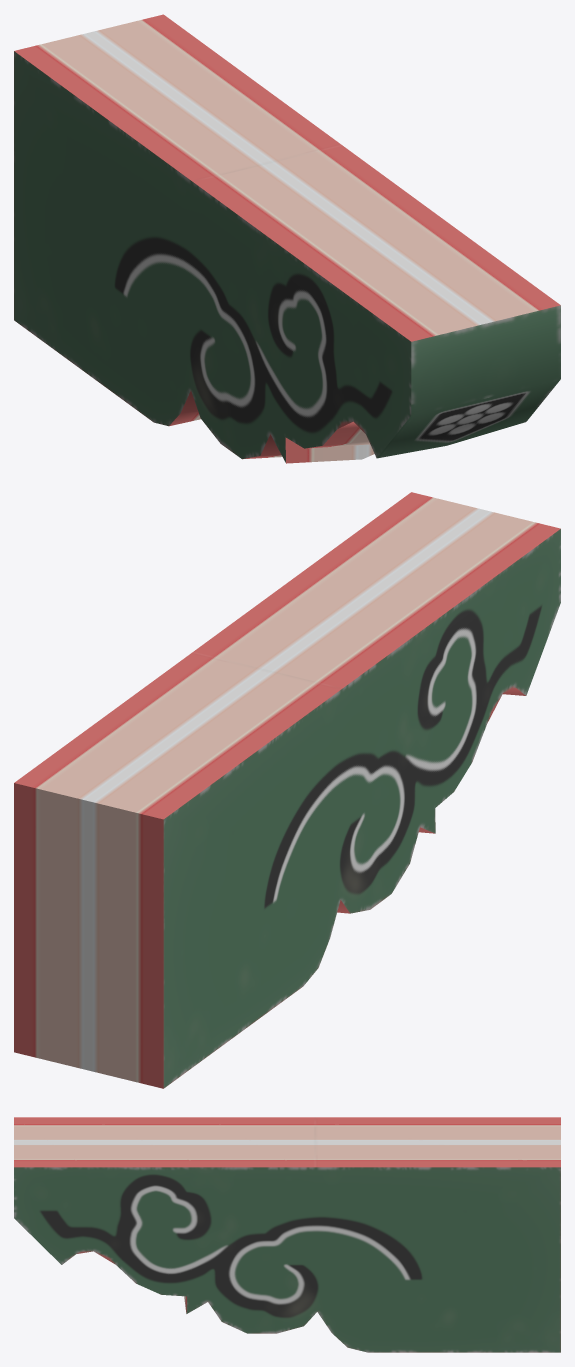
The model's file is SM_CGJ_Gongpo05d.fbx.
3 renders of one model, top to bottom at view 1: azimuth 30°, elevation 25°; view 2: azimuth 150°, elevation 25°; view 3: azimuth 270°, elevation 25°, orthographic. The views are drawn at different scales.
Visible parts, largest first — view 1: SM_CGJ_Gongpo05d; view 2: SM_CGJ_Gongpo05d; view 3: SM_CGJ_Gongpo05d.
Part boxes in pixels (x1,y1,x2,y2): SM_CGJ_Gongpo05d: [14, 14, 560, 463]; SM_CGJ_Gongpo05d: [14, 492, 560, 1088]; SM_CGJ_Gongpo05d: [14, 1117, 560, 1352].
Size of the model in its own units: 11.17 by 51.4 by 19.22.
Materials: 1 (1 with a texture image).
